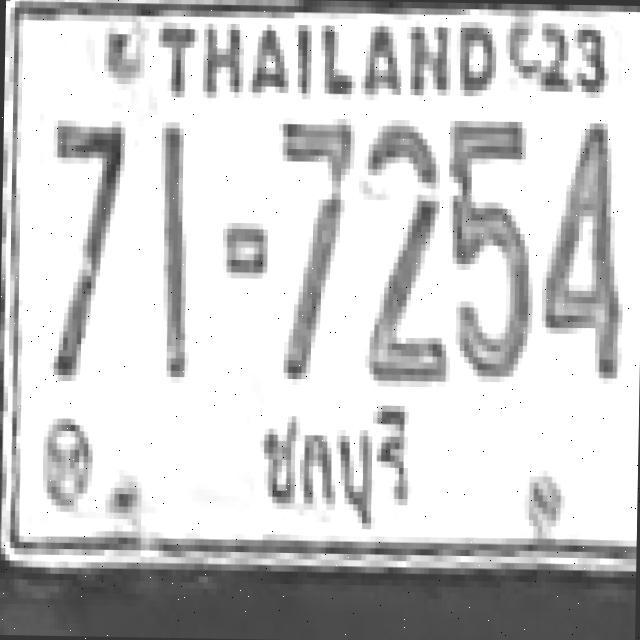1: (154, 121, 186, 376)
2: (360, 116, 446, 378), (360, 116, 441, 366)
4: (540, 116, 621, 372)
5: (441, 115, 531, 376)
7: (274, 115, 351, 376), (49, 116, 121, 372), (50, 116, 120, 342)
Chonburi: (253, 392, 422, 536)
